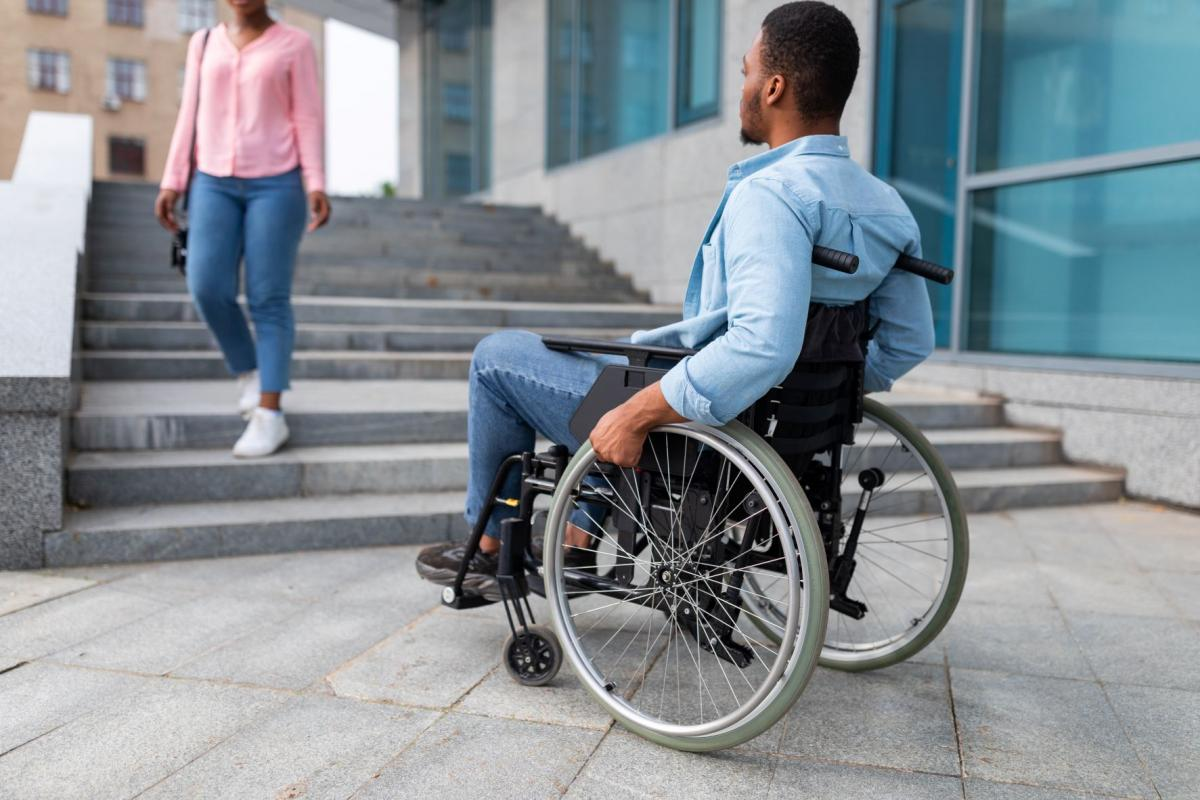wheelchair: (413, 1, 972, 753)
